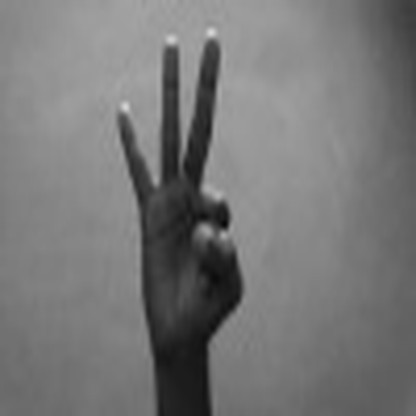f: (111, 17, 247, 340)
